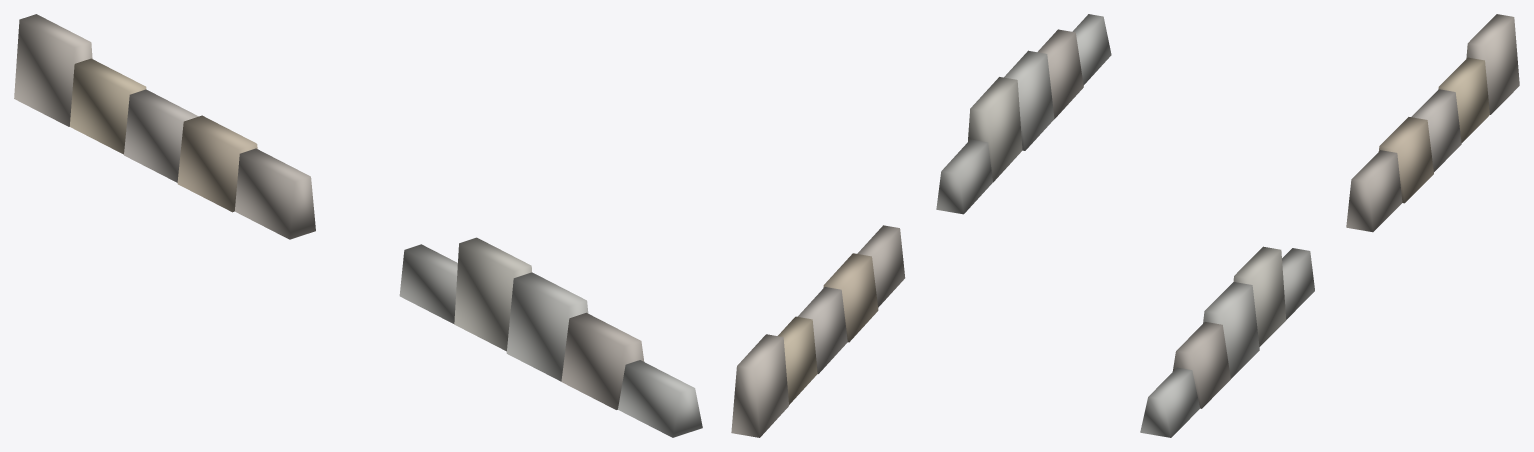
The model's file is farm_28_19_collision.glb.
3 renders of one model, left to right at view 1: azimuth 30°, elevation 25°; view 2: azimuth 150°, elevation 25°; view 3: azimuth 330°, elevation 25°, orthographic. The views are drawn at different scales.
Visible parts, largest first — view 1: geometry_0; view 2: geometry_0; view 3: geometry_0.
Part boxes in pixels (<box>): geometry_0: <box>14,14,702,437</box>; geometry_0: <box>731,14,1111,437</box>; geometry_0: <box>1140,14,1519,437</box>.
Size of the model in its own units: 3.26 by 1.79 by 18.59.
